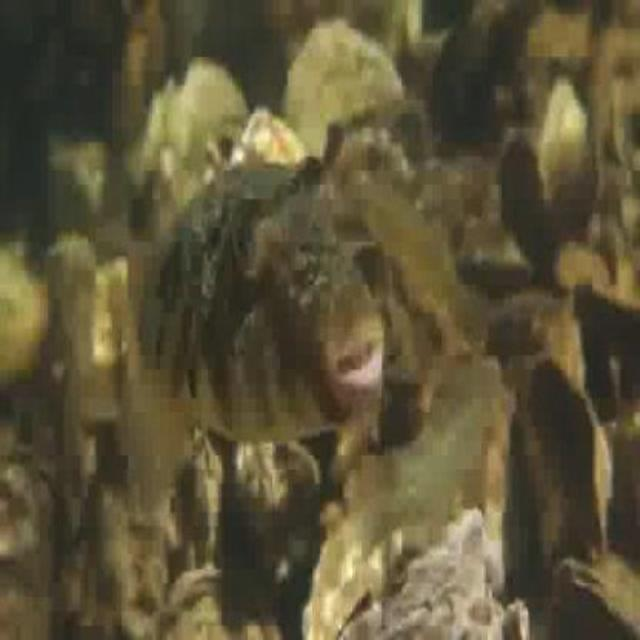Oyster-Closed: (467, 287, 586, 519), (348, 512, 526, 638), (282, 20, 400, 146), (42, 238, 118, 407), (152, 556, 288, 638), (170, 64, 249, 165), (543, 78, 590, 236), (550, 555, 638, 638), (0, 448, 57, 569), (0, 247, 48, 384), (242, 107, 306, 169), (143, 76, 178, 165)
Oyster-Open: (391, 265, 464, 368), (203, 131, 244, 181)
